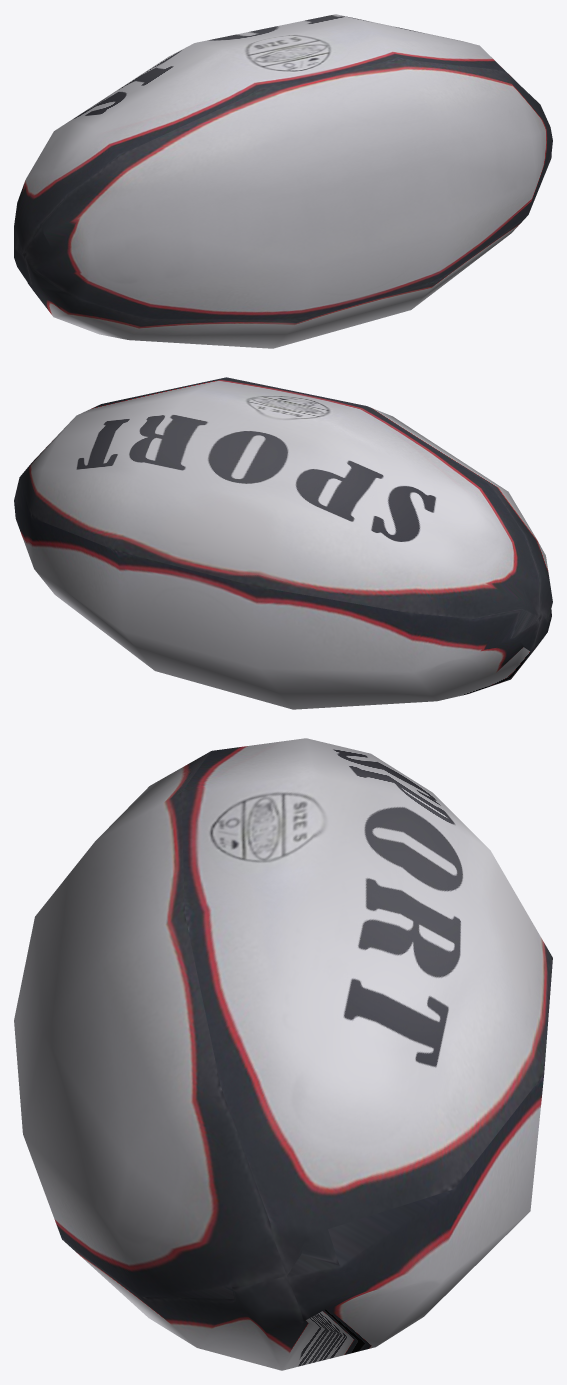
The model's file is rugby ball.fbx.
The picture shows the model from 3 angles, top to bottom: view 1: azimuth 30°, elevation 25°; view 2: azimuth 150°, elevation 25°; view 3: azimuth 270°, elevation 25°; orthographic projection. The views are drawn at different scales.
Visible parts, largest first — view 1: _Rugby_Ball_; view 2: _Rugby_Ball_; view 3: _Rugby_Ball_.
Boxes of the visible parts, bbox=[...] form: _Rugby_Ball_: bbox=[14, 14, 552, 348]; _Rugby_Ball_: bbox=[14, 377, 552, 709]; _Rugby_Ball_: bbox=[14, 738, 552, 1370].
Bounding box in the file's own units: 61.62 × 32.31 × 33.44.
Materials: 1 (1 with a texture image).
